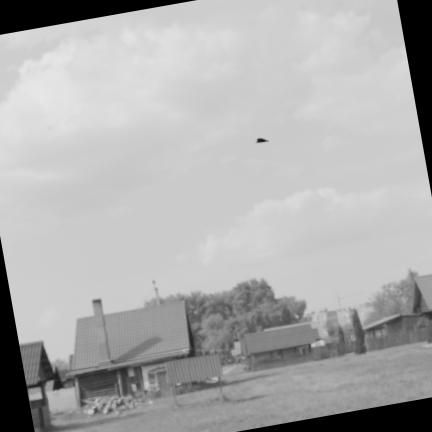Shahed: (256, 138, 268, 143)
